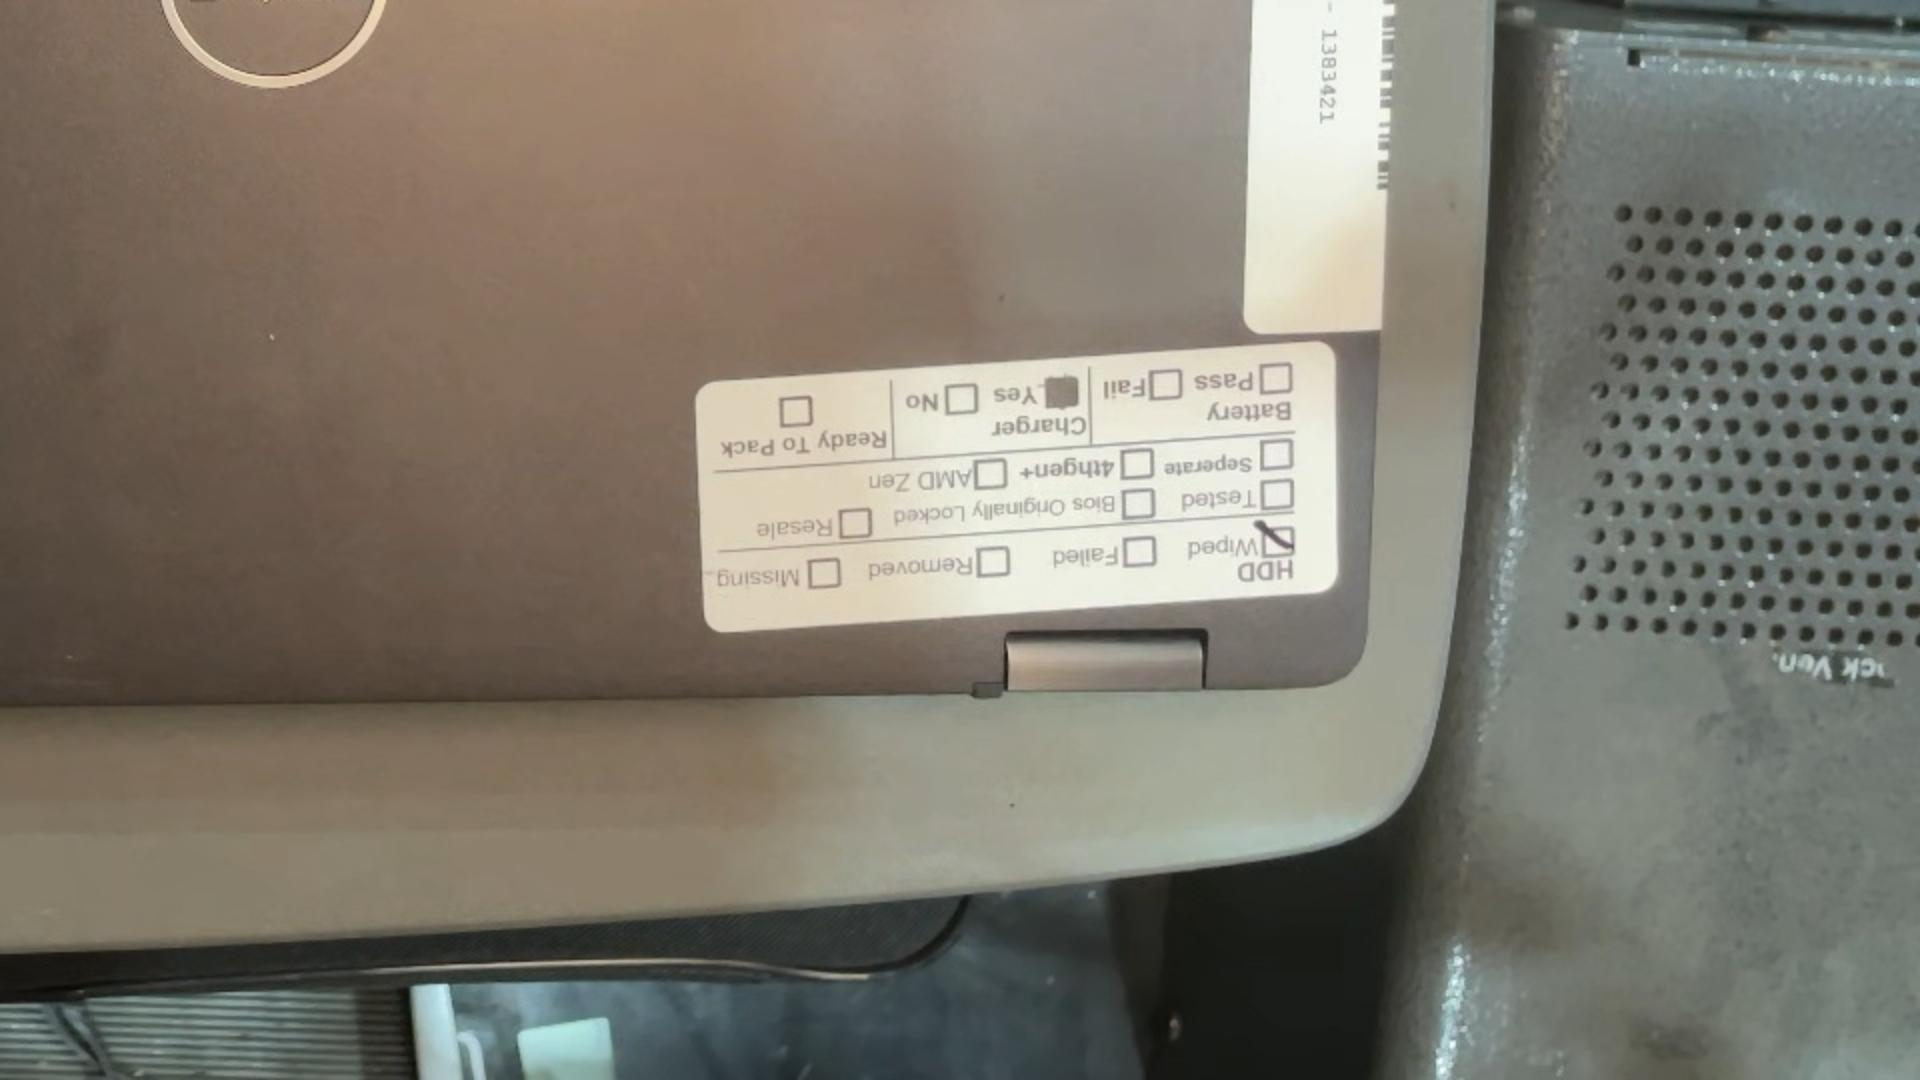chip: (266, 332, 277, 344)
